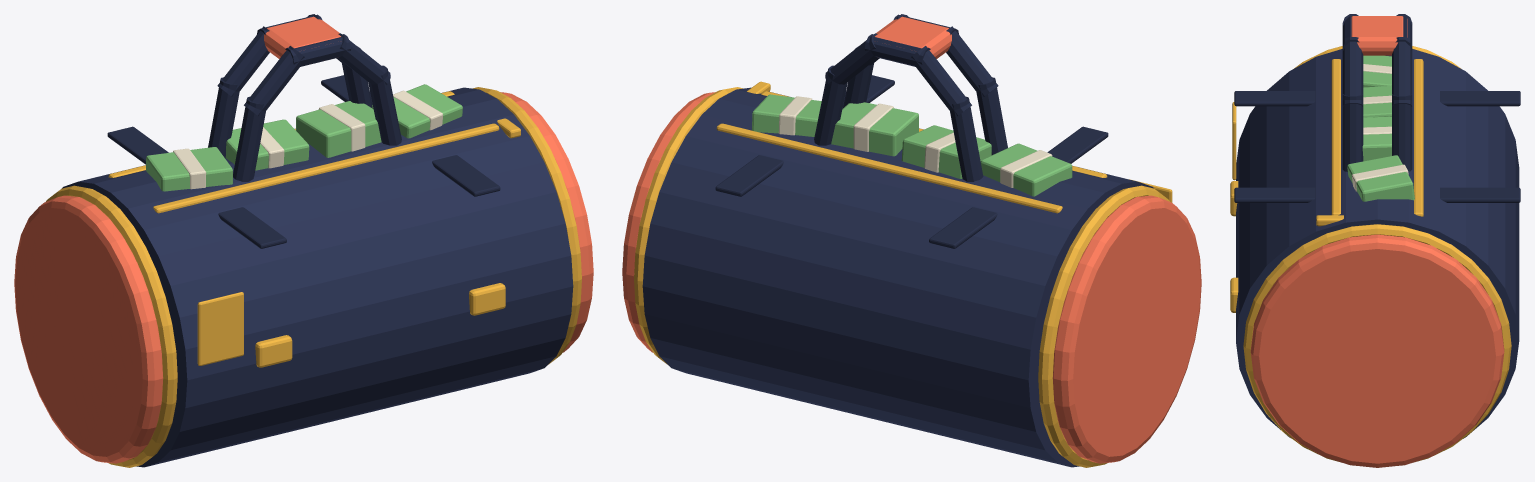
File: duffel_bag.glb
The picture shows the model from 3 angles, left to right: view 1: azimuth 30°, elevation 25°; view 2: azimuth 150°, elevation 25°; view 3: azimuth 270°, elevation 25°; orthographic projection. The views are drawn at different scales.
Parts seen in each view (by area): view 1: body, cap-1, ring-1, cap1, zip-1, ring1, tag, cash2, strap-1, cash0, cash3, strap1 (+15 smaller); view 2: body, cap-1, ring-1, cap1, zip1, ring1, cash2, strap-1, cash0, cash1, strap1, grip (+13 smaller); view 3: cap1, body, ring1, strap1, strap-1, cash3, grip, zip1, zip-1, handleA4, handleB4, handleA3 (+6 smaller).
Part boxes in pixels (bbox=[...]): body: bbox=[62, 87, 573, 467]; cap-1: bbox=[14, 195, 163, 463]; ring-1: bbox=[46, 185, 177, 467]; cap1: bbox=[500, 92, 593, 352]; zip-1: bbox=[153, 123, 499, 213]; ring1: bbox=[472, 87, 581, 364]; tag: bbox=[197, 292, 243, 365]; cash2: bbox=[296, 101, 381, 157]; strap-1: bbox=[107, 126, 286, 248]; cash0: bbox=[146, 147, 232, 191]; cash3: bbox=[372, 84, 462, 138]; strap1: bbox=[321, 75, 500, 196]; body: bbox=[642, 87, 1153, 467]; cap-1: bbox=[1052, 195, 1201, 463]; ring-1: bbox=[1038, 185, 1169, 467]; cap1: bbox=[622, 92, 715, 352]; zip1: bbox=[716, 123, 1062, 213]; ring1: bbox=[634, 87, 743, 364]; cash2: bbox=[831, 102, 918, 156]; strap-1: bbox=[929, 126, 1108, 248]; cash0: bbox=[980, 143, 1072, 196]; cash1: bbox=[901, 125, 991, 178]; strap1: bbox=[715, 75, 894, 196]; grip: bbox=[875, 16, 951, 58]; cap1: bbox=[1250, 234, 1504, 467]; body: bbox=[1236, 49, 1519, 438]; ring1: bbox=[1243, 224, 1511, 465]; strap1: bbox=[1234, 187, 1520, 202]; strap-1: bbox=[1234, 91, 1520, 106]; cash3: bbox=[1347, 155, 1414, 201]; grip: bbox=[1351, 16, 1407, 55]; zip1: bbox=[1414, 59, 1423, 216]; zip-1: bbox=[1331, 59, 1340, 215]; handleA4: bbox=[1342, 94, 1363, 171]; handleB4: bbox=[1392, 94, 1412, 171]; handleA3: bbox=[1342, 37, 1363, 106].
Size of the model in its own units: 1.18 by 0.9474 by 0.71.
